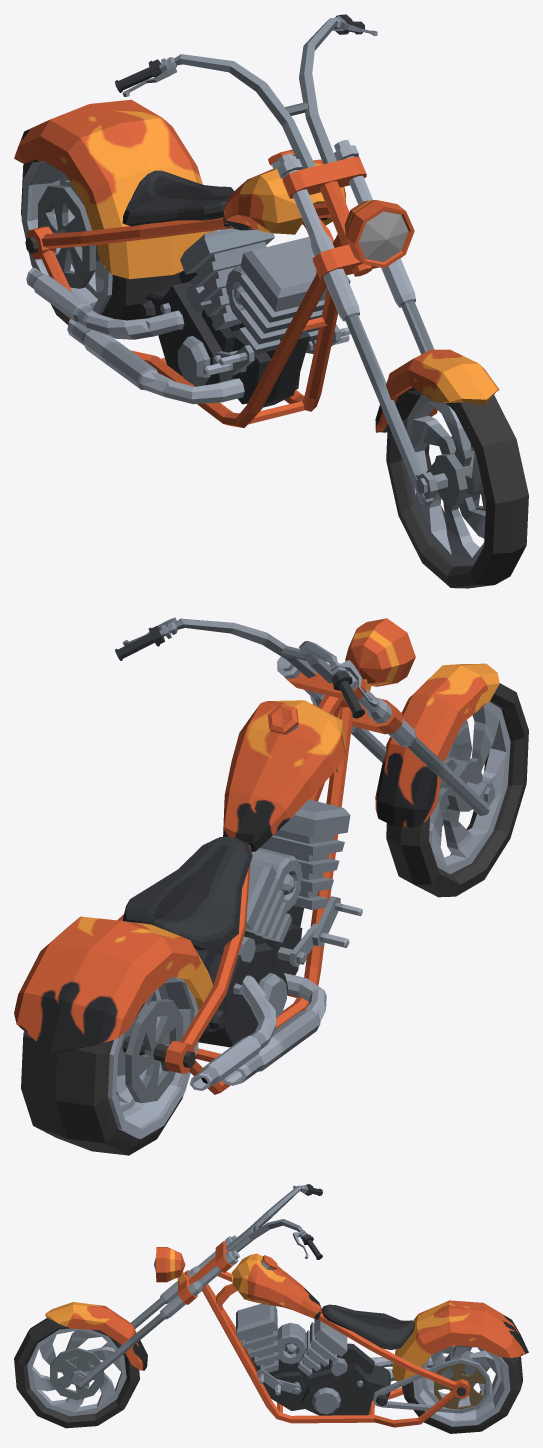
File: SM_Veh_Motorbike_01.glb
3 views of the same model, one above another, from view 1: azimuth 30°, elevation 25°; view 2: azimuth 150°, elevation 25°; view 3: azimuth 270°, elevation 25° (orthographic). The views are drawn at different scales.
Parts seen in each view (by area): view 1: SM_Veh_Motorbike_01, SM_Veh_Motorbike_01_Wheel_Front_01, SM_Veh_Motorbike_01_Shock_01; view 2: SM_Veh_Motorbike_01, SM_Veh_Motorbike_01_Wheel_Front_01, SM_Veh_Motorbike_01_Shock_01; view 3: SM_Veh_Motorbike_01, SM_Veh_Motorbike_01_Wheel_Front_01, SM_Veh_Motorbike_01_Shock_01.
Part boxes in pixels (x1,y1,x2,y2): SM_Veh_Motorbike_01: [14, 14, 415, 427]; SM_Veh_Motorbike_01_Wheel_Front_01: [386, 387, 528, 588]; SM_Veh_Motorbike_01_Shock_01: [345, 301, 499, 505]; SM_Veh_Motorbike_01: [14, 617, 415, 1155]; SM_Veh_Motorbike_01_Wheel_Front_01: [386, 683, 528, 897]; SM_Veh_Motorbike_01_Shock_01: [351, 663, 499, 827]; SM_Veh_Motorbike_01: [154, 1184, 528, 1433]; SM_Veh_Motorbike_01_Wheel_Front_01: [14, 1318, 139, 1428]; SM_Veh_Motorbike_01_Shock_01: [45, 1298, 164, 1389].
Bounding box in the file's own units: 1.04 × 1.55 × 3.28.
Materials: 1 (1 with a texture image).
